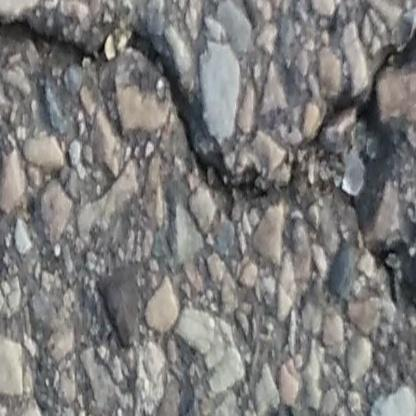Cracks: (0, 8, 416, 237), (365, 234, 416, 322)
